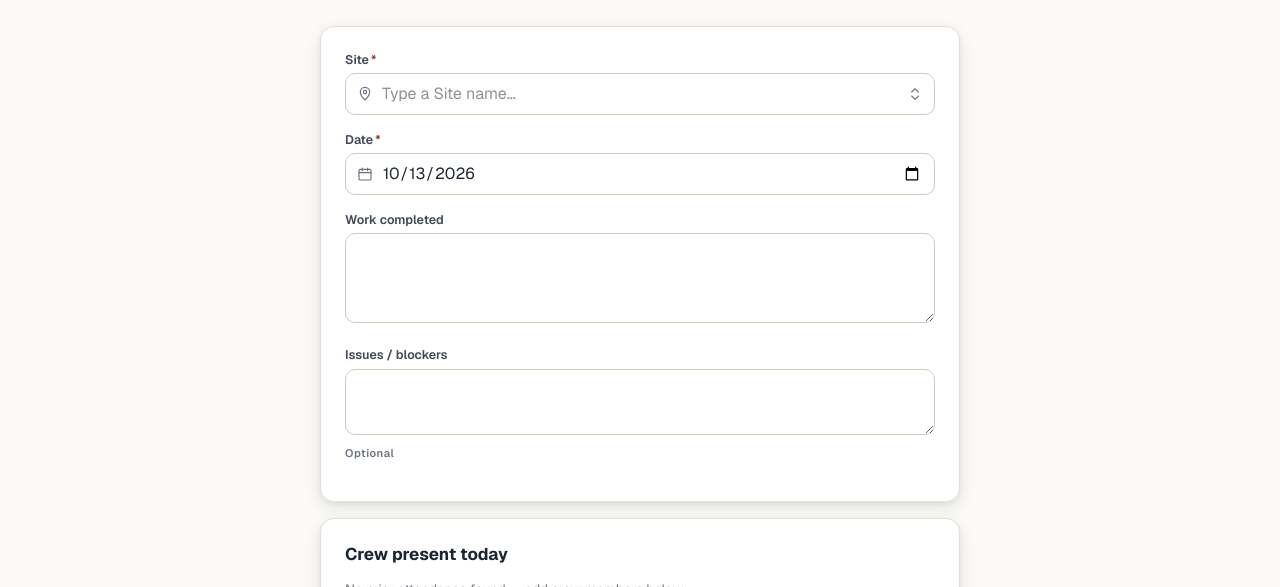
Scenario: NewDsrPage › adds equipment from the Machinery/Vehicle registers, carrying type, id, and name
In the dropdown labelled "Site": (640, 94) [345,73,935,115], type "NH"
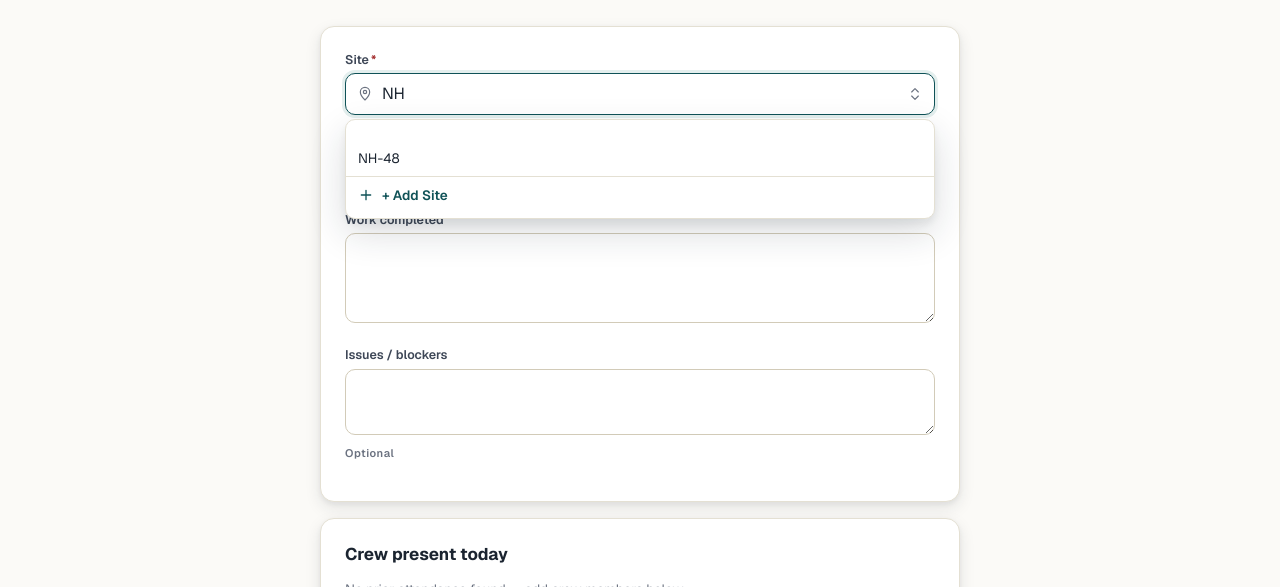
Click the option "NH-48": (379, 158) [358,149,400,167]
(page scrolled)
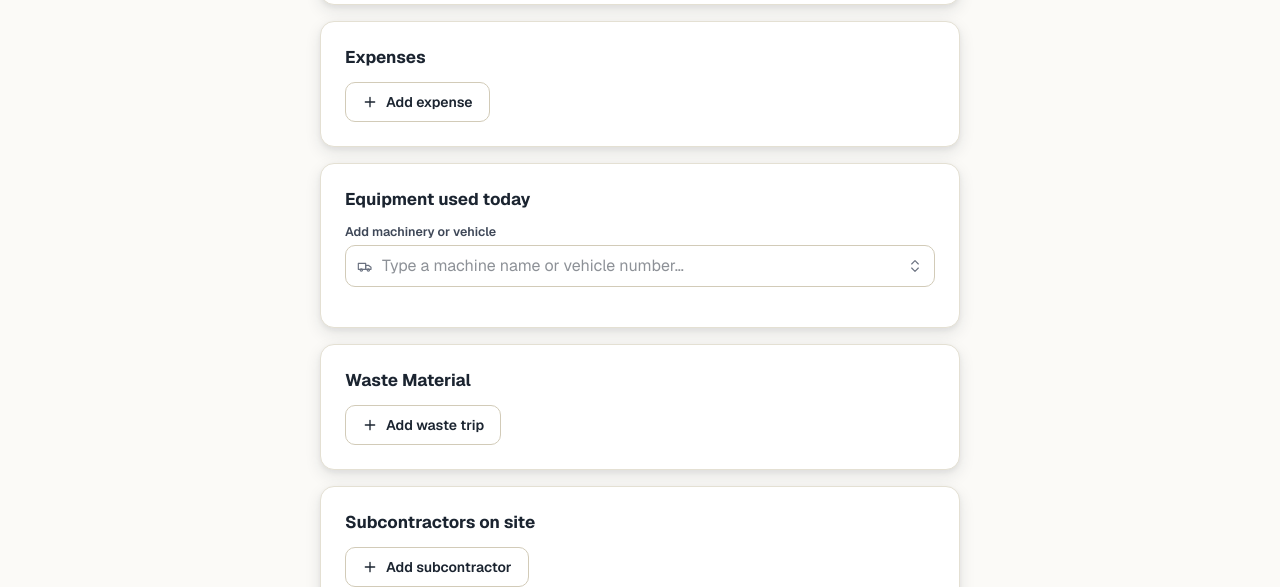
In the dropdown labelled "Add machinery or vehicle": (640, 266) [345,246,935,288], type "jcb"
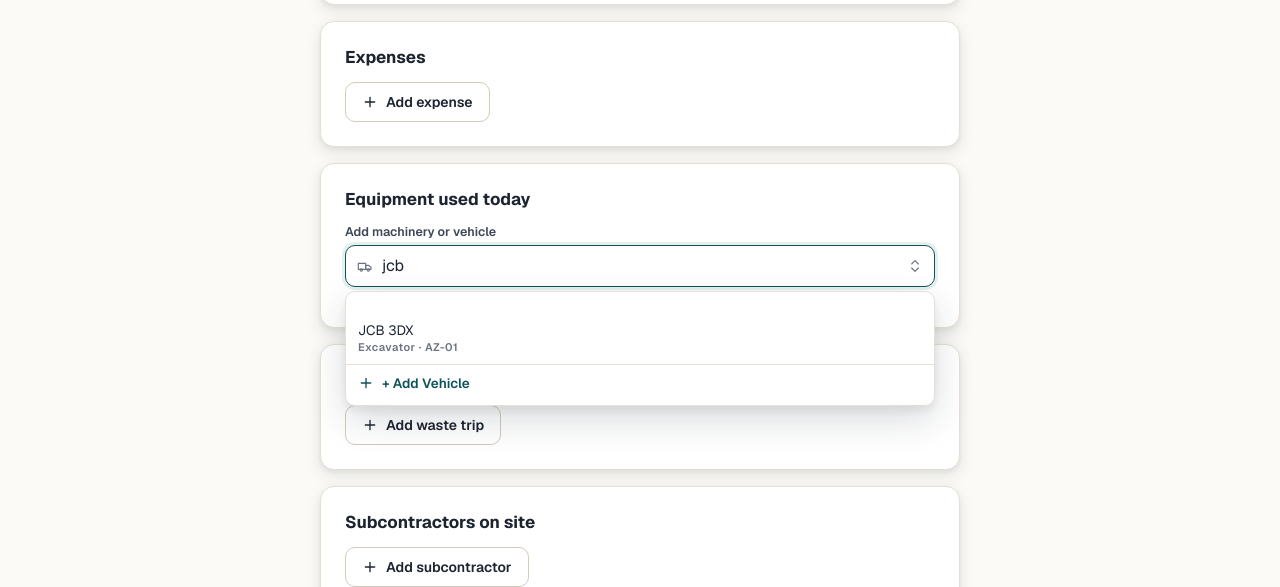
Click the text "JCB 3DX": (386, 330) [358,321,414,339]
(page scrolled)
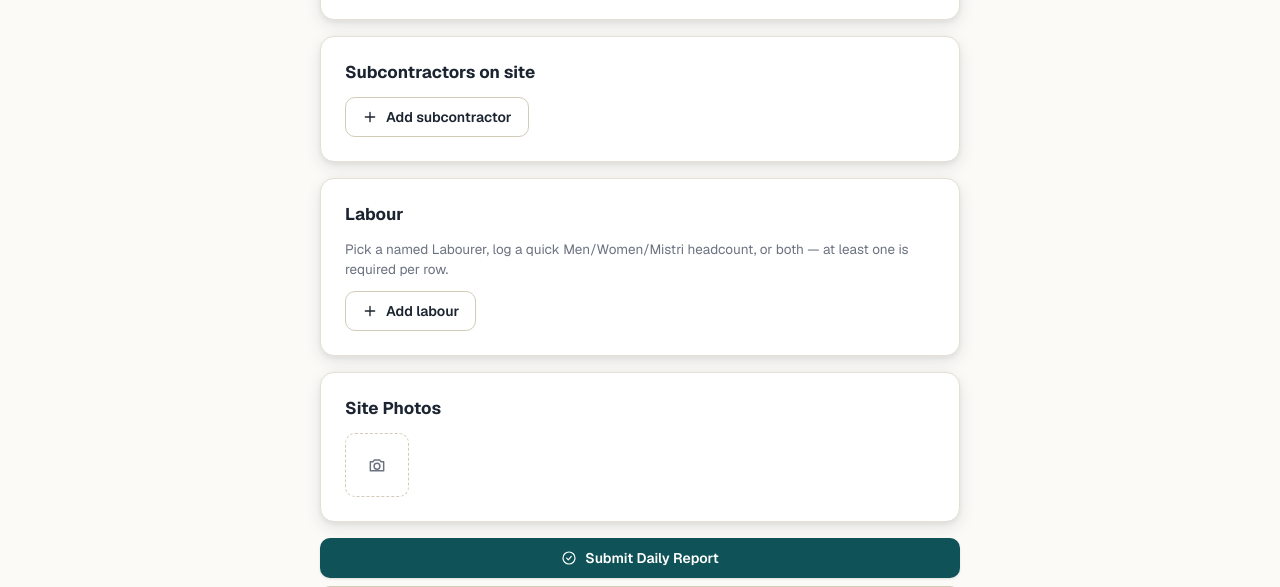
Click the button "Submit Daily Report": (640, 558) [320,538,960,578]
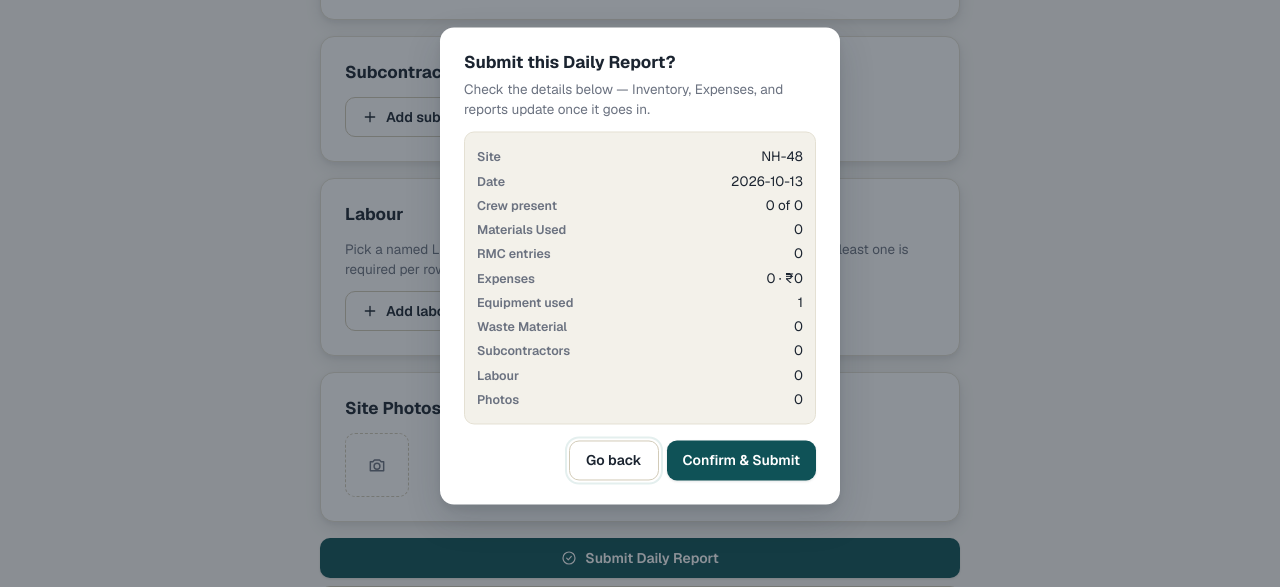
# The playback dialog now guards submission — confirm to proceed.
Click the button "Confirm & Submit": (741, 460) [667,440,816,480]
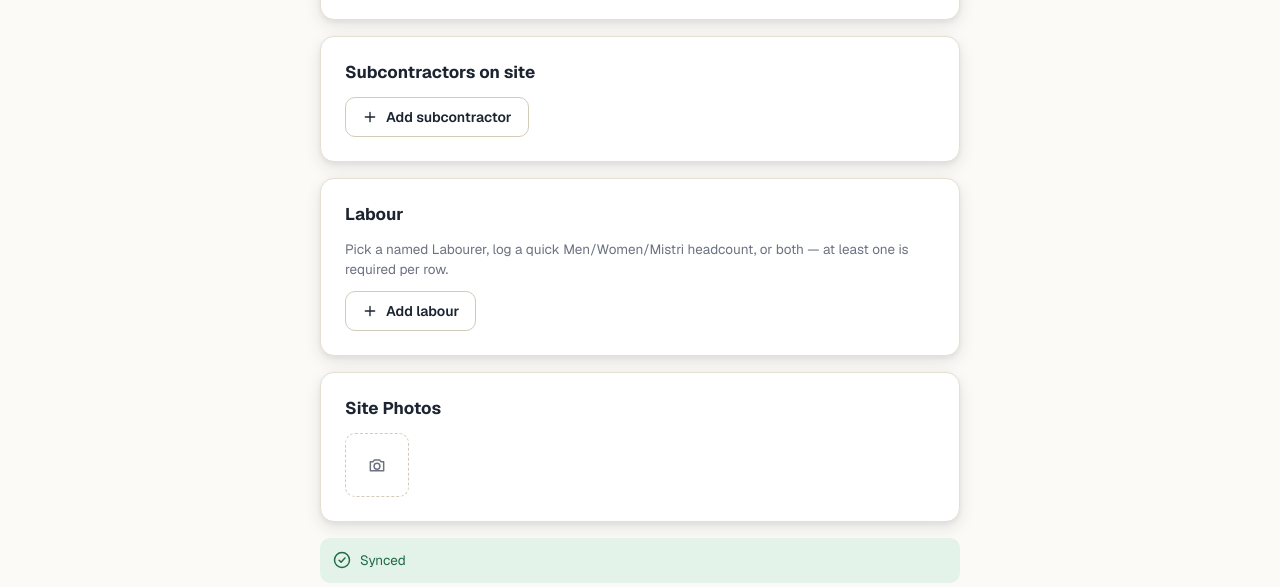
Expected: the text "Synced" is shown, [320,538,960,583]
